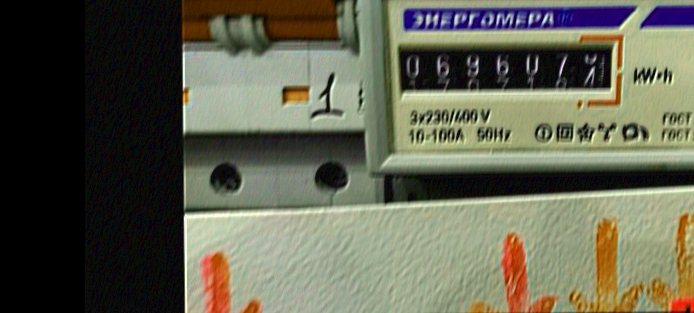0: (403, 54, 420, 78), (523, 51, 538, 76)
4: (580, 65, 596, 89)
6: (433, 53, 450, 78), (493, 52, 510, 76)
7: (553, 52, 568, 78)
9: (463, 53, 479, 77)
screen: (384, 30, 627, 106)
